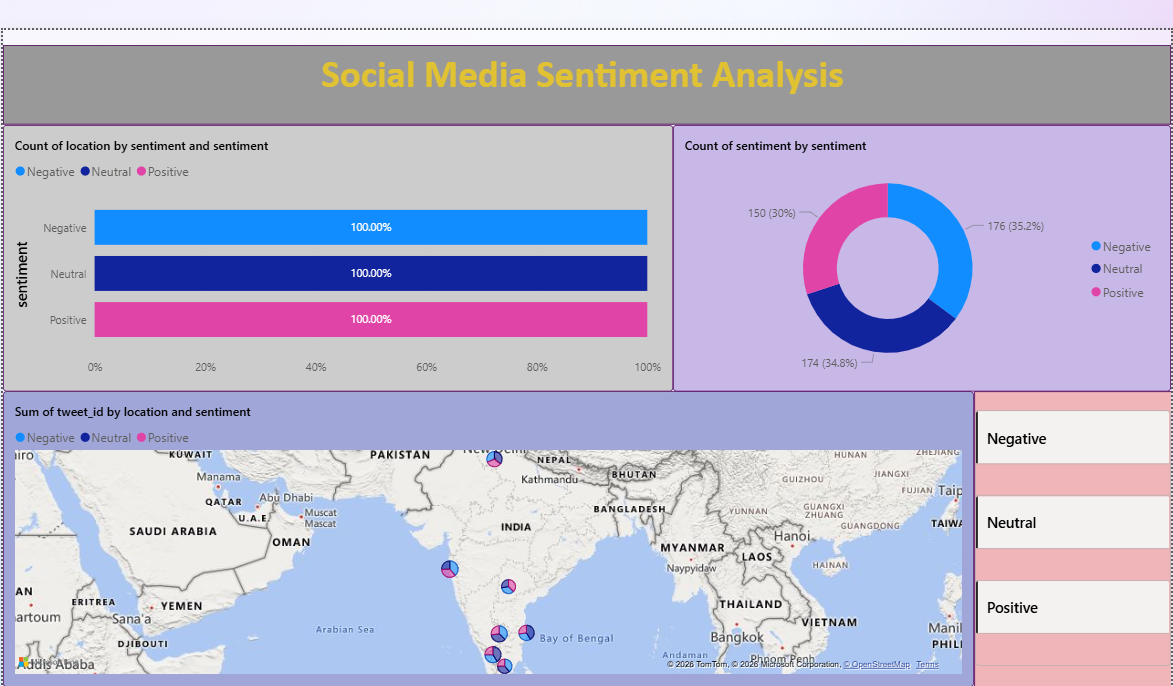

Layout of this report page (visuals, bound fields, positions):
{"tool":"powerbi","page":{"name":"Page 1","canvas":[1280,720],"ordinal":0},"visuals":[{"type":"donutChart","fields":{"Category":["social_media_db social_media_sentiment_500_rows.sentiment"],"Y":["CountNonNull(social_media_db social_media_sentiment_500_rows.sentiment)"]},"box":[734.3,103.6,546,291.8],"z":0},{"type":"map","fields":{"Category":["social_media_db social_media_sentiment_500_rows.location"],"Size":["Sum(social_media_db social_media_sentiment_500_rows.tweet_id)"],"Series":["social_media_db social_media_sentiment_500_rows.sentiment"]},"box":[0,395.4,1063.8,324.1],"z":1},{"type":"hundredPercentStackedBarChart","fields":{"Y":["CountNonNull(social_media_db social_media_sentiment_500_rows.location)"],"Category":["social_media_db social_media_sentiment_500_rows.sentiment"],"Series":["social_media_db social_media_sentiment_500_rows.sentiment"]},"box":[0,103.6,734.3,291.8],"z":2},{"type":"cardVisual","fields":{"Rows":["social_media_db social_media_sentiment_500_rows.sentiment"]},"box":[1063.8,395.4,216.5,324.1],"z":3},{"type":"textbox","box":[0,16.1,1280.3,87.4],"z":4}]}

Visuals, with their boxes in screenshot pixels (x1, y1, x2, y2):
donutChart - social_media_db social_media_sentiment_500_rows.sentiment x CountNonNull(social_media_db social_media_sentiment_500_rows.sentiment): 673, 121, 1166, 385
map - social_media_db social_media_sentiment_500_rows.location x Sum(social_media_db social_media_sentiment_500_rows.tweet_id): 9, 385, 971, 678
hundredPercentStackedBarChart - CountNonNull(social_media_db social_media_sentiment_500_rows.location) x social_media_db social_media_sentiment_500_rows.sentiment: 9, 121, 673, 385
cardVisual - social_media_db social_media_sentiment_500_rows.sentiment: 971, 385, 1166, 678
textbox: 9, 42, 1166, 121
